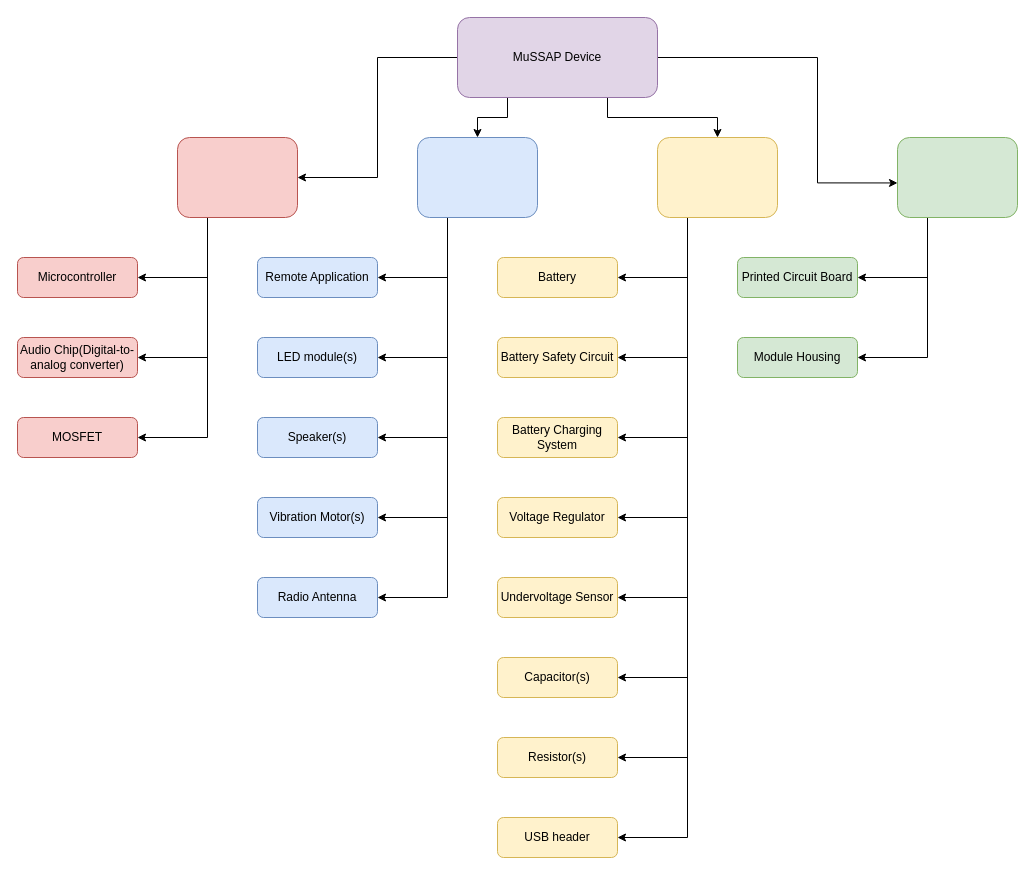
Some shapes in this 1035 by 875 pixel diagram are drawn without their labels. The centre of each missing label's shape, as x and y in pixels:
"Control Unit" belongs at [237,177].
"Input / Output" belongs at [477,177].
"Power Supply" belongs at [717,177].
"Structure" belongs at [957,177].
